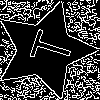T: (19, 25, 75, 68)
